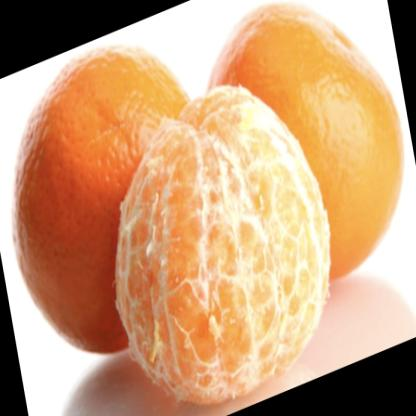fresh: (14, 1, 410, 416)
